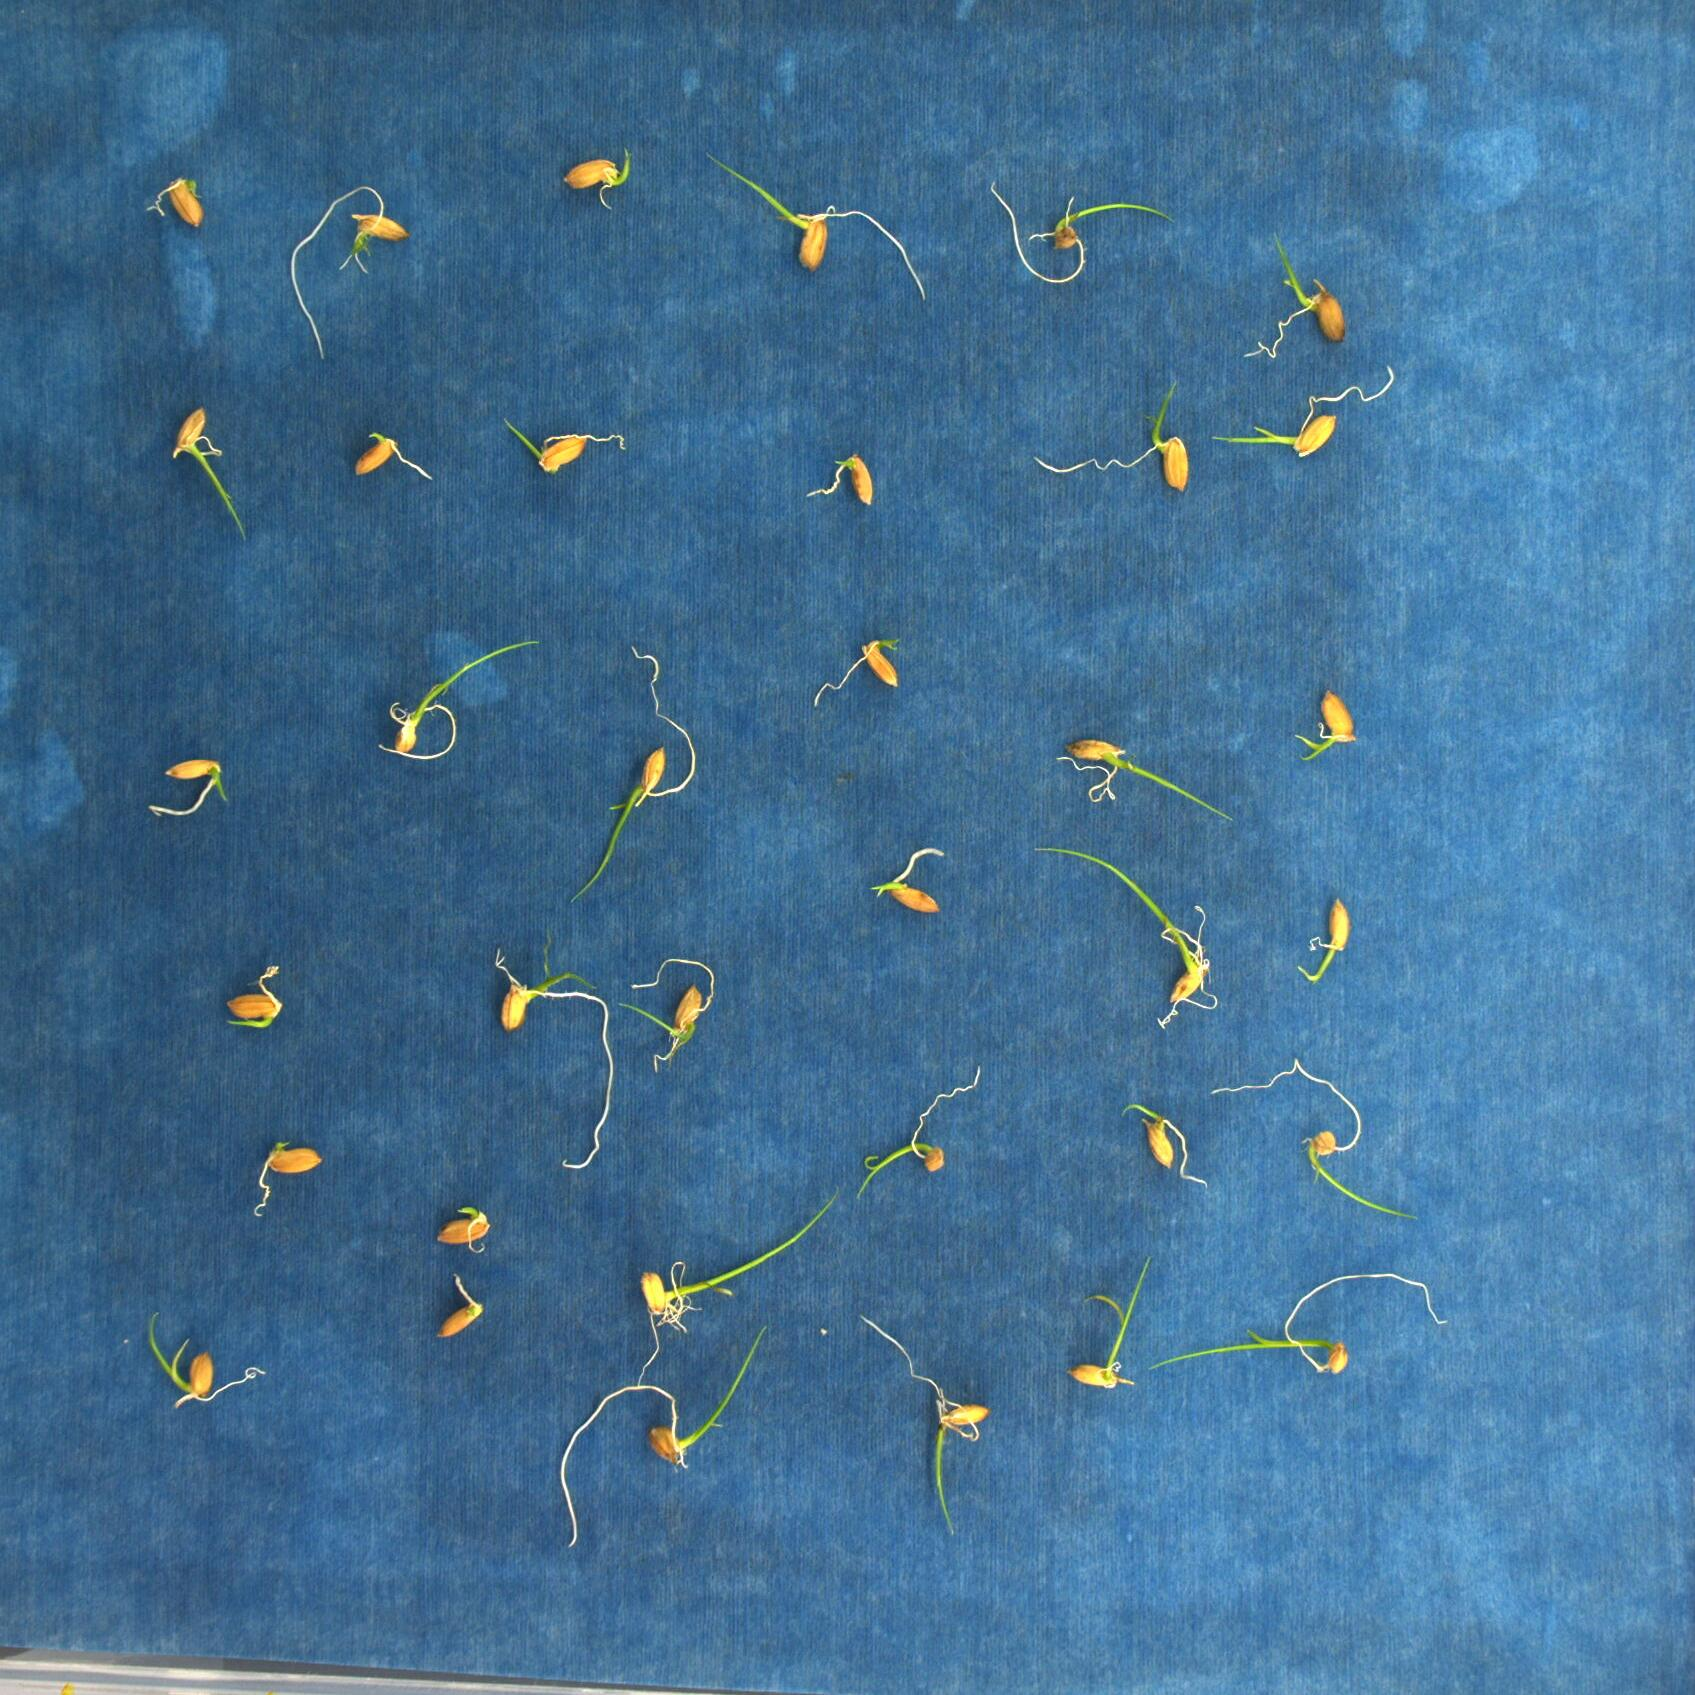not sprout: (804, 627, 914, 702), (865, 843, 959, 925), (349, 421, 435, 497), (251, 1138, 324, 1212), (802, 442, 882, 503), (435, 1277, 494, 1340)
sprout: (543, 1319, 775, 1555), (629, 1181, 854, 1395), (1035, 834, 1243, 1035), (697, 147, 930, 321), (1211, 1046, 1423, 1229), (1156, 1267, 1468, 1391), (438, 910, 574, 1178), (567, 643, 706, 900), (858, 1307, 995, 1541), (276, 171, 428, 369), (975, 169, 1184, 290), (618, 948, 778, 1096), (1040, 730, 1243, 841), (1212, 365, 1409, 478), (369, 636, 532, 771), (1031, 376, 1198, 500), (849, 1062, 986, 1212), (1250, 222, 1350, 366), (1068, 1251, 1153, 1419), (141, 1302, 272, 1409), (161, 400, 258, 545), (1121, 1087, 1212, 1192), (495, 411, 638, 478), (1288, 893, 1366, 989), (553, 140, 647, 217), (140, 748, 234, 823), (213, 955, 293, 1042), (1284, 688, 1369, 767), (428, 1197, 500, 1260), (144, 169, 211, 231)
